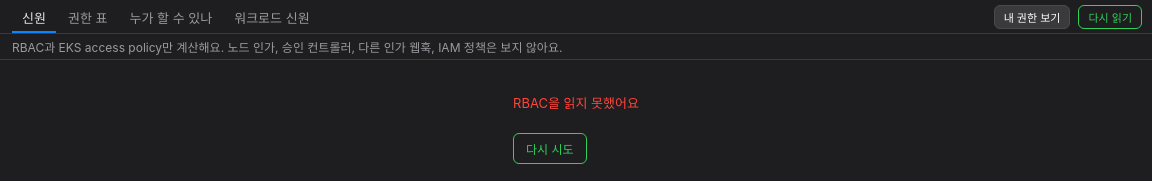
Test: a read failure is shown, but the workload tab does not depend on it
Expected: the text "RBAC을 읽지 못했어요" is shown, [513,93,639,112]
Click the tab "워크로드 신원": (272, 18) [224,4,320,33]
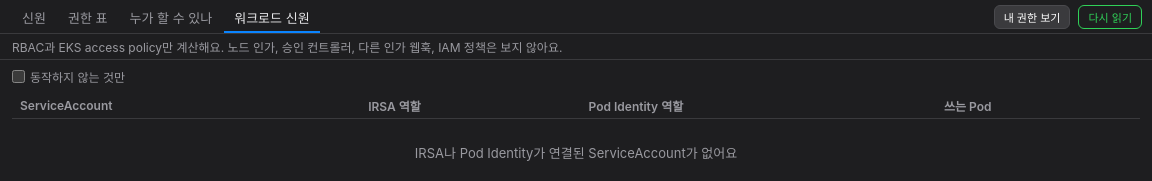
Expected: the text "RBAC을 읽지 못했어요" is gone
